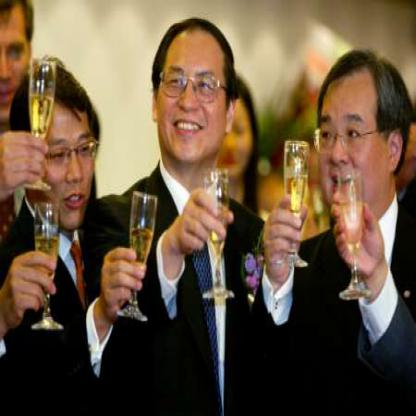face: (316, 63, 396, 223), (158, 23, 231, 165), (34, 86, 98, 233), (210, 82, 253, 179), (1, 1, 33, 128)
